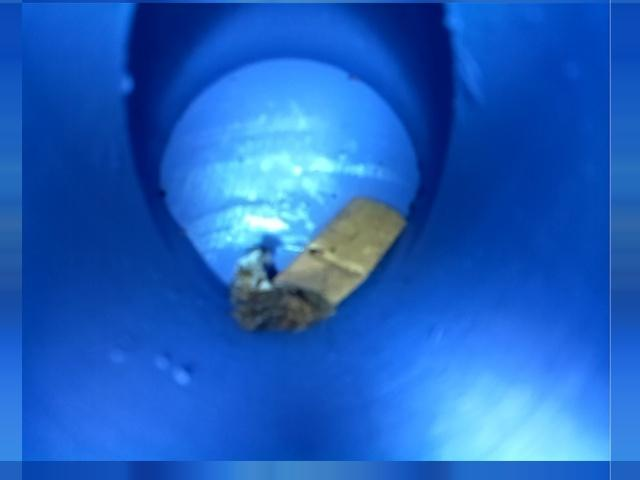megot: (223, 187, 414, 342)
